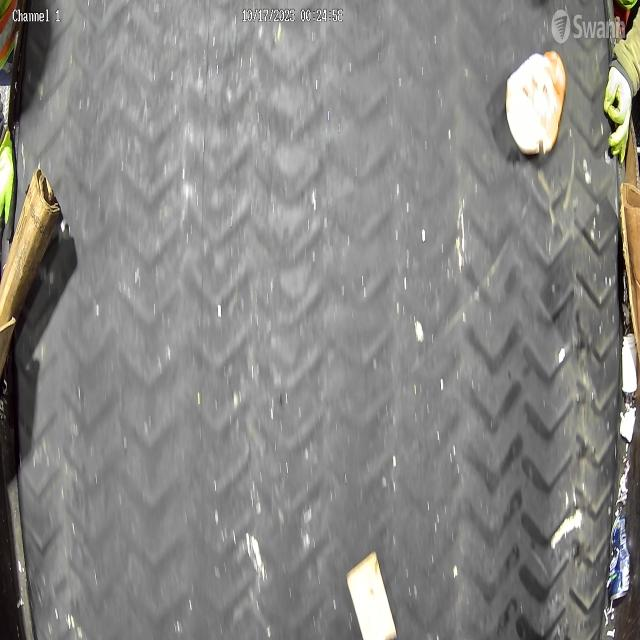can: (606, 512, 630, 601)
non_white_jug: (506, 50, 566, 156)
